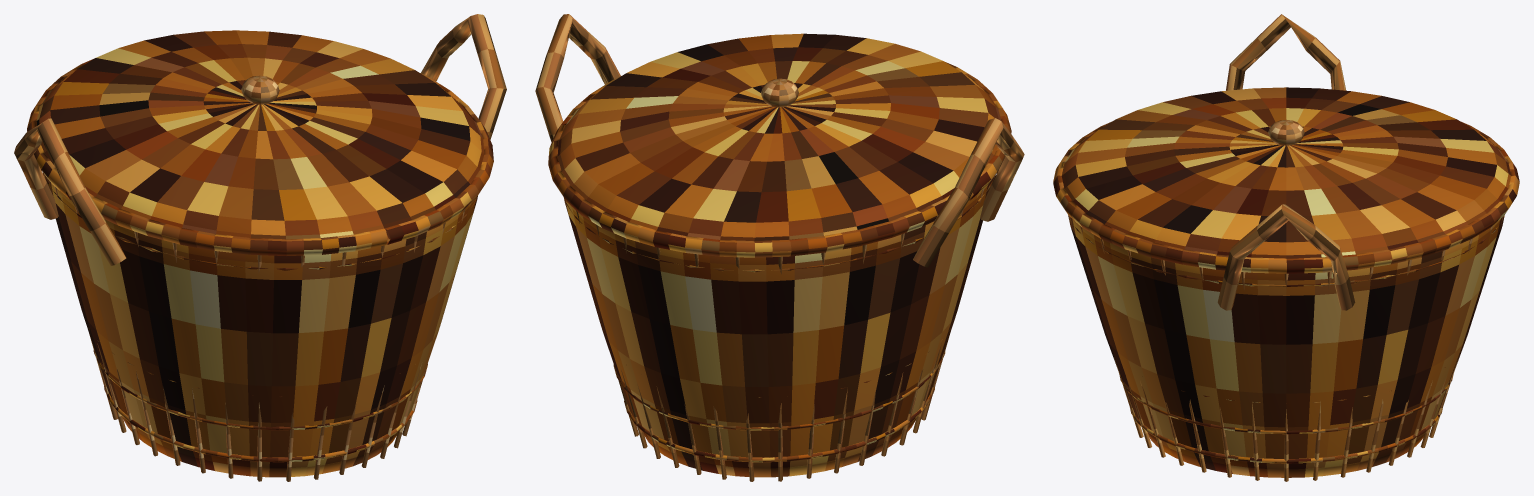
Rendered from lidded-basket.glb.
The picture shows the model from 3 angles, left to right: view 1: azimuth 30°, elevation 25°; view 2: azimuth 150°, elevation 25°; view 3: azimuth 270°, elevation 25°; orthographic projection. The views are drawn at different scales.
Parts seen in each view (by area): view 1: lidded-basket; view 2: lidded-basket; view 3: lidded-basket.
Boxes of the visible parts, x1=… form: lidded-basket: x1=14, y1=14, x2=506, y2=481; lidded-basket: x1=535, y1=14, x2=1024, y2=481; lidded-basket: x1=1053, y1=14, x2=1519, y2=481.
Bounding box in the file's own units: 0.9126 × 0.682 × 0.9092.
